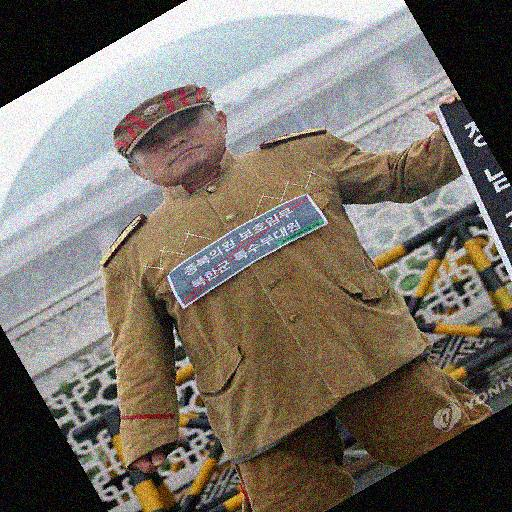north army: (82, 53, 459, 490)
